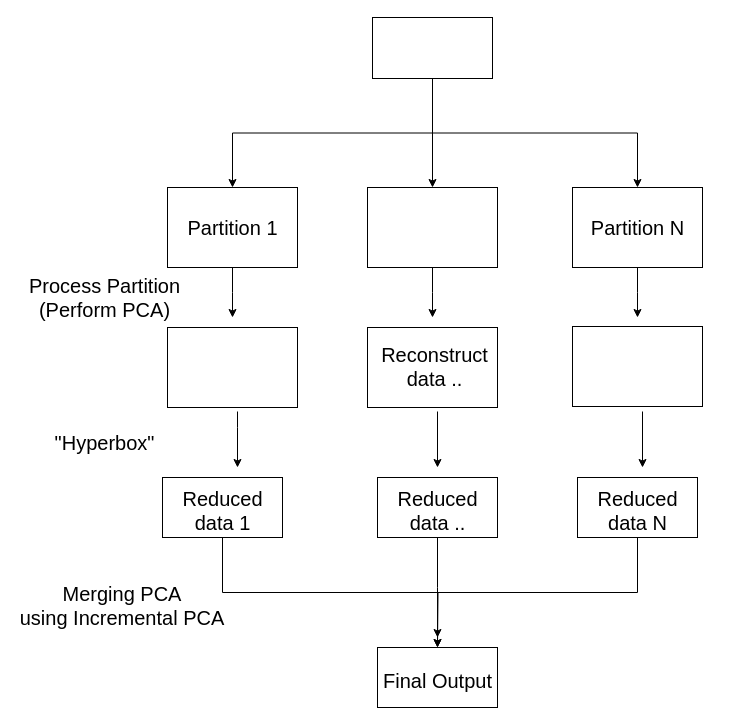
This 742x725 diagram has some shape labels left out. Here are the shapes that lost their labels. From the top down, the centre of each, then its label:
At [432,47]: "Data".
At [432,227]: "Partition ...".
At [232,367]: "Reconstruct data 1".
At [637,366]: "Reconstruct data N".
